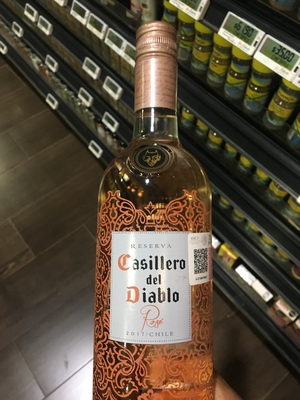casillero del diablo rose: (88, 22, 224, 400)
